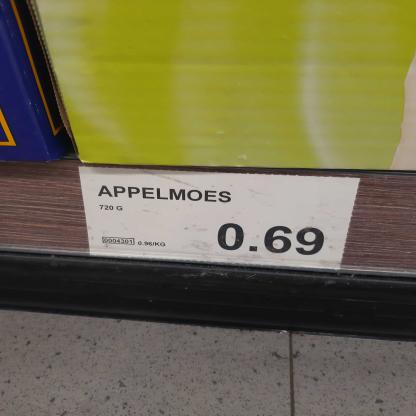prtg: (80, 168, 362, 271)
